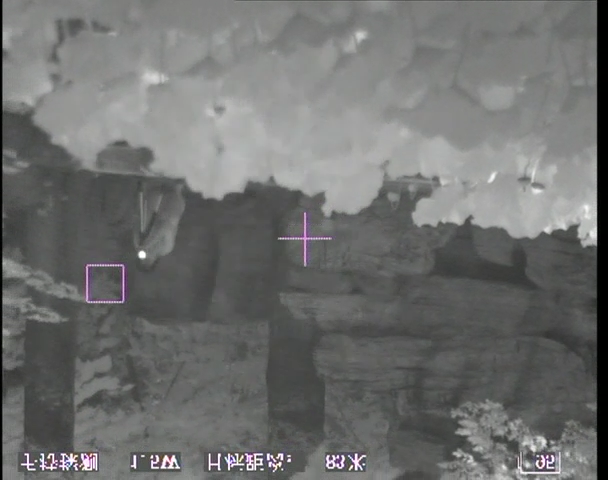my: (137, 249, 150, 261)
